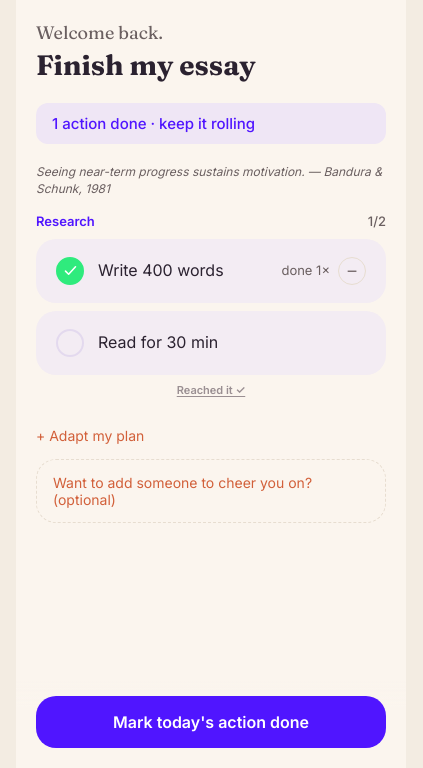
Scenario: tapping a not-yet-done repeating action increments the progress count
Click the button with aria-label "mark done: read for 30 min": (137, 343) [56,329,218,357]
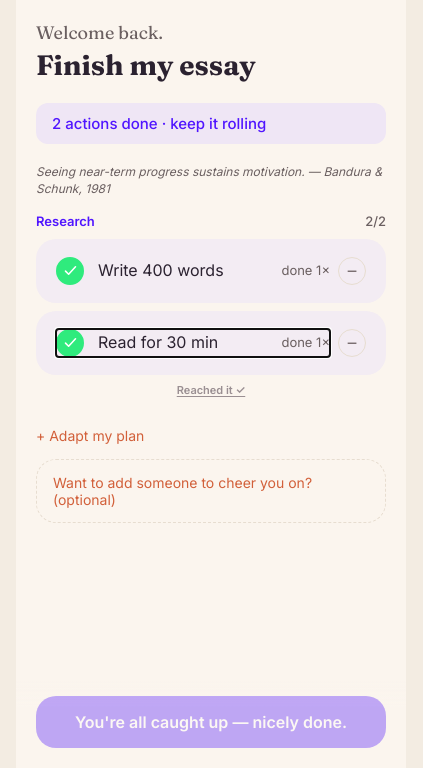
Expected: the text "2 actions done · keep it rolling" is shown, [36,103,386,144]
